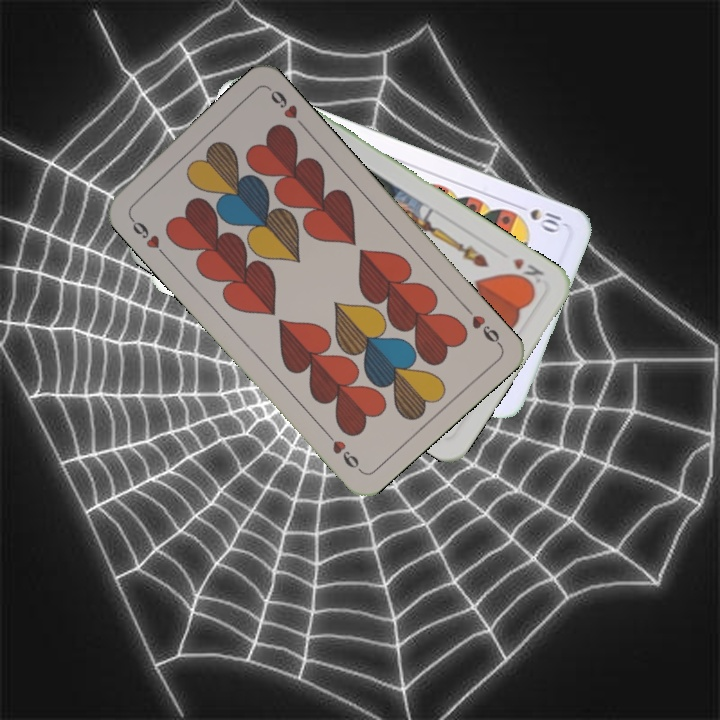H9: (124, 211, 169, 259), (459, 301, 504, 348)
HK: (506, 253, 547, 291)
S10: (525, 204, 567, 235)
